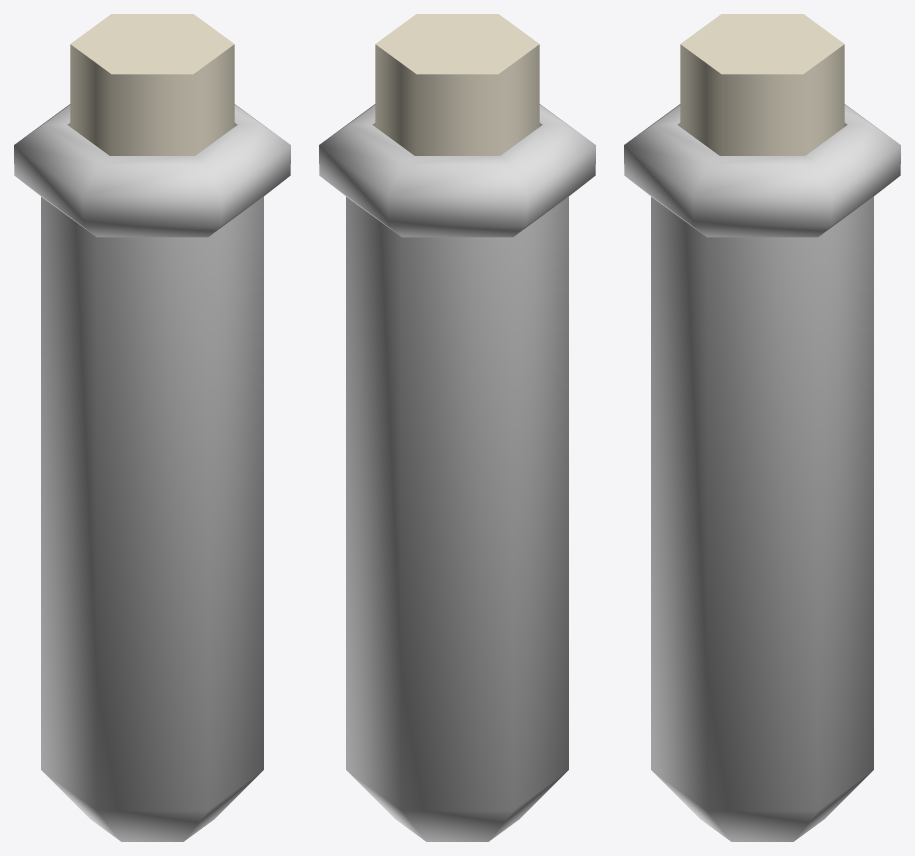
The model's file is SM_Potion_2.fbx.
The picture shows the model from 3 angles, left to right: view 1: azimuth 30°, elevation 25°; view 2: azimuth 150°, elevation 25°; view 3: azimuth 270°, elevation 25°; orthographic projection.
Visible parts, largest first — view 1: HealthTube; view 2: HealthTube; view 3: HealthTube.
Boxes of the visible parts, box(x1,y1,x2,y2) form: HealthTube: box(14, 14, 290, 841); HealthTube: box(319, 14, 595, 841); HealthTube: box(624, 14, 900, 841).
Size of the model in its own units: 6.32 by 22.55 by 7.3.
